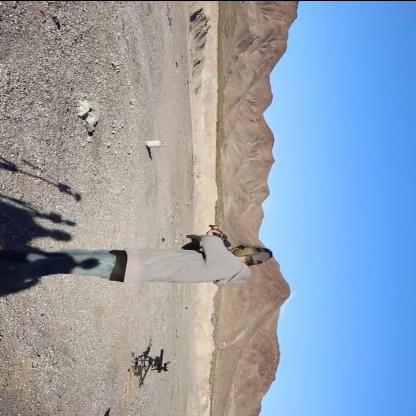long weapon: (184, 214, 231, 254), (136, 336, 172, 378)
